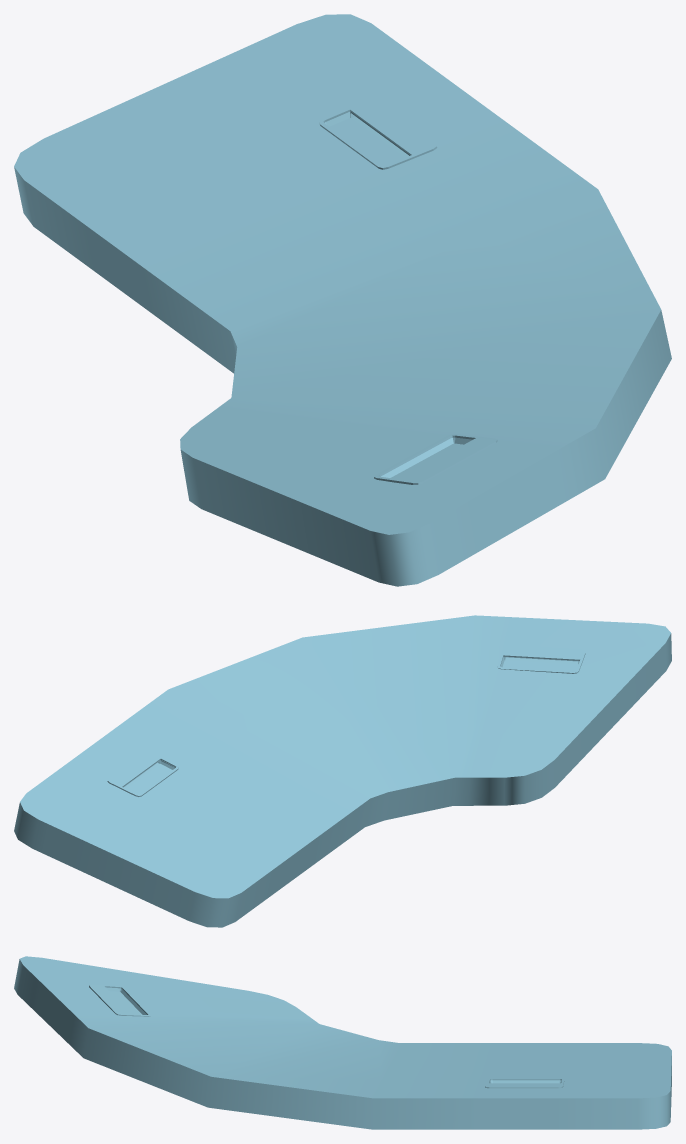
The model's file is ConsoleCabinetSideLargeAssy.FBX.
The picture shows the model from 3 angles, top to bottom: view 1: azimuth 30°, elevation 25°; view 2: azimuth 150°, elevation 25°; view 3: azimuth 270°, elevation 25°; orthographic projection. The views are drawn at different scales.
Parts seen in each view (by area): view 1: ConsoleCabinetSideLarge, ConsoleCabinetKnob002, ConsoleCabinetKnob003; view 2: ConsoleCabinetSideLarge, ConsoleCabinetKnob003, ConsoleCabinetKnob002; view 3: ConsoleCabinetSideLarge, ConsoleCabinetKnob003, ConsoleCabinetKnob002.
Part boxes in pixels (x1,y1,x2,y2): ConsoleCabinetSideLarge: [14, 14, 671, 586]; ConsoleCabinetKnob002: [319, 99, 437, 169]; ConsoleCabinetKnob003: [374, 434, 497, 484]; ConsoleCabinetSideLarge: [14, 615, 671, 927]; ConsoleCabinetKnob003: [497, 645, 585, 673]; ConsoleCabinetKnob002: [107, 751, 178, 796]; ConsoleCabinetSideLarge: [14, 956, 671, 1129]; ConsoleCabinetKnob003: [89, 984, 150, 1016]; ConsoleCabinetKnob002: [485, 1078, 564, 1088].
Size of the model in its own units: 0.5455 by 0.1233 by 1.02.
